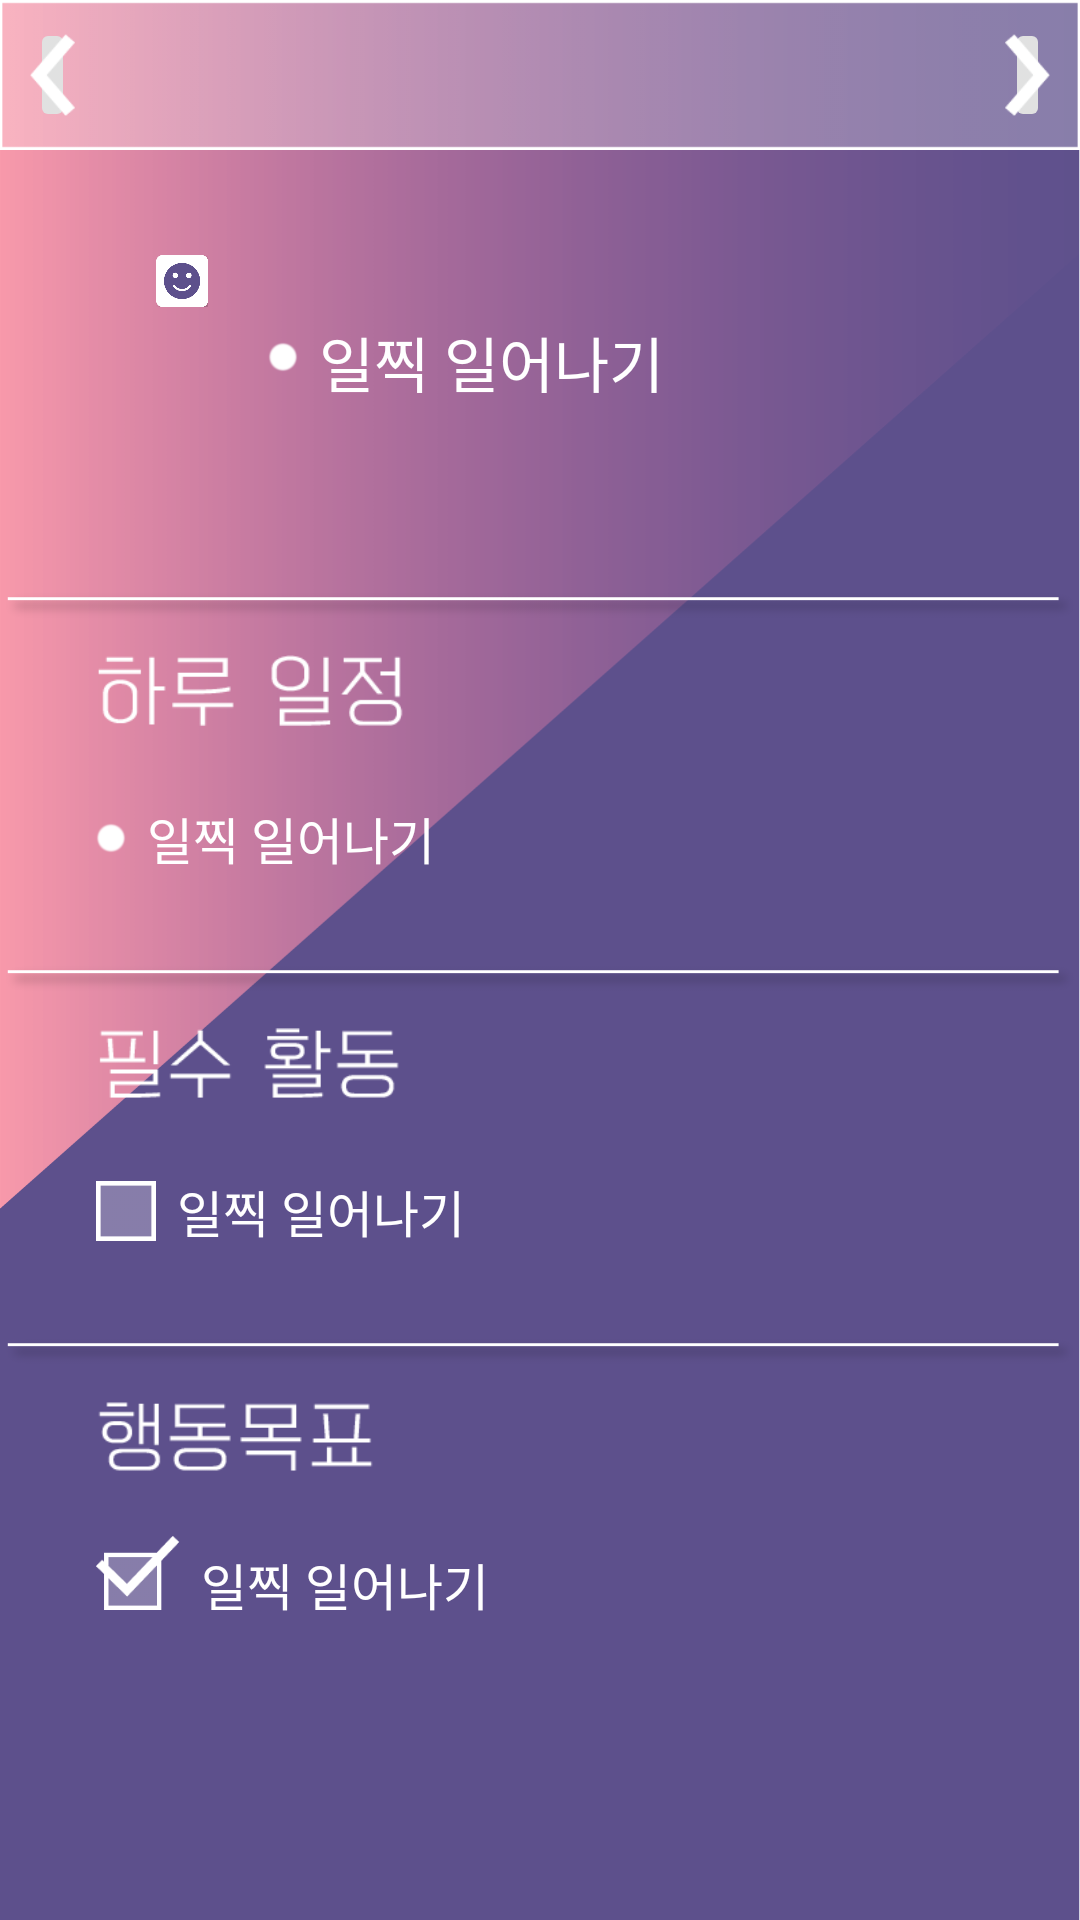

Named icons in this screenshot (1080w x 1920h) and their bounding boxes, BBox(x1, y1, x2, y2):
mood arrow left: BBox(31, 35, 75, 115)
mood arrow right: BBox(1005, 34, 1050, 116)
mood ckeck: BBox(96, 1536, 179, 1610)
mood ckeck empty: BBox(96, 1181, 156, 1241)
mood emoji: BBox(156, 255, 208, 307)
